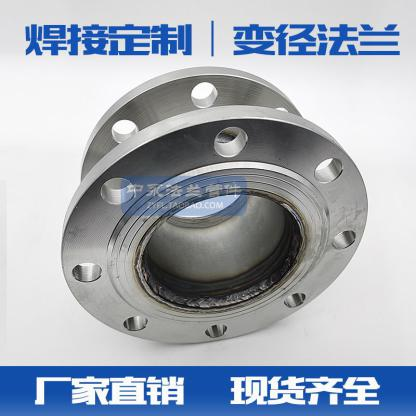FOD: (57, 60, 373, 350)
